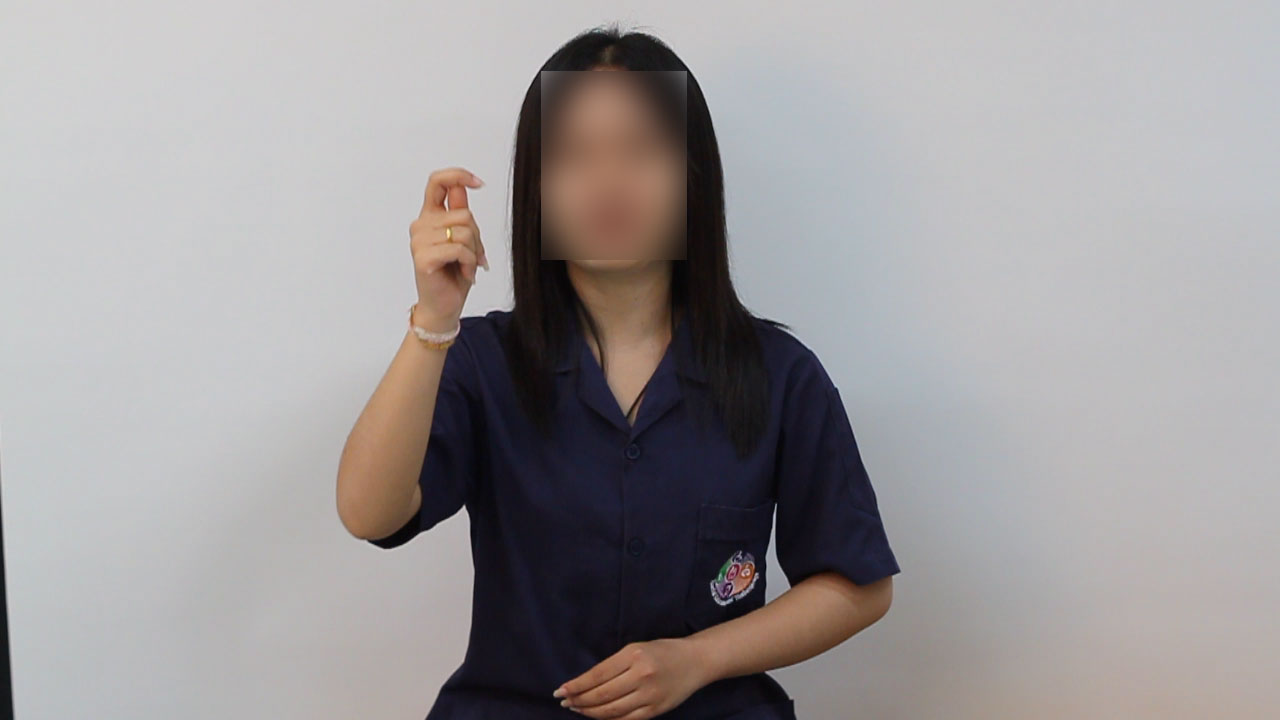or: (404, 163, 496, 333)
